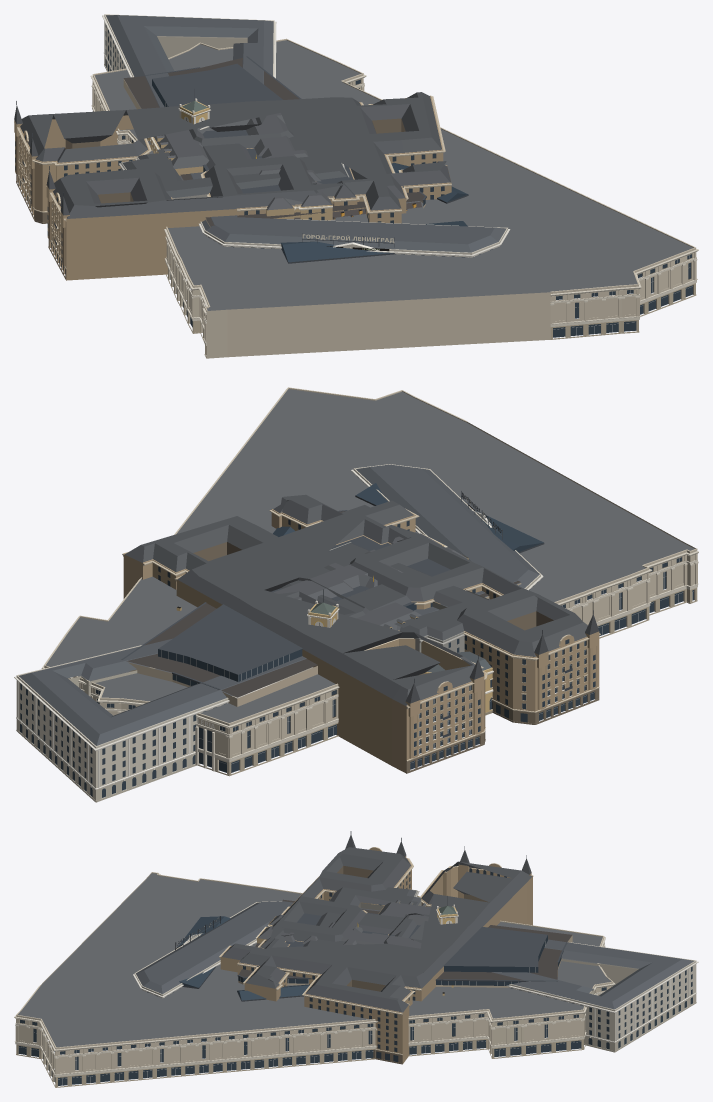
The model's file is ligovsky.glb.
The picture shows the model from 3 angles, top to bottom: view 1: azimuth 30°, elevation 25°; view 2: azimuth 150°, elevation 25°; view 3: azimuth 270°, elevation 25°; orthographic projection. The views are drawn at different scales.
Visible parts, largest first — view 1: hero__8522850_mesh, hero__1303159_mesh, hero__1598177_mesh, hero__1784115_mesh, hero__19186354_mesh, hero__953406_mesh, hero__2404499_mesh; view 2: hero__8522850_mesh, hero__1303159_mesh, hero__1598177_mesh, hero__1784115_mesh, hero__953406_mesh, hero__19186354_mesh, hero__2404499_mesh; view 3: hero__8522850_mesh, hero__1303159_mesh, hero__1598177_mesh, hero__1784115_mesh, hero__953406_mesh, hero__19186354_mesh, hero__2404499_mesh.
Boxes of the visible parts, bbox=[...] form: hero__8522850_mesh: bbox=[90, 38, 698, 358]; hero__1303159_mesh: bbox=[14, 92, 451, 280]; hero__1598177_mesh: bbox=[102, 14, 510, 257]; hero__1784115_mesh: bbox=[123, 56, 426, 227]; hero__19186354_mesh: bbox=[147, 113, 332, 220]; hero__953406_mesh: bbox=[119, 133, 349, 198]; hero__2404499_mesh: bbox=[178, 89, 210, 129]; hero__8522850_mesh: bbox=[41, 387, 698, 776]; hero__1303159_mesh: bbox=[122, 494, 600, 773]; hero__1598177_mesh: bbox=[14, 464, 543, 802]; hero__1784115_mesh: bbox=[121, 510, 521, 748]; hero__953406_mesh: bbox=[280, 542, 489, 652]; hero__19186354_mesh: bbox=[273, 533, 468, 630]; hero__2404499_mesh: bbox=[176, 589, 493, 719]; hero__8522850_mesh: bbox=[14, 872, 615, 1087]; hero__1303159_mesh: bbox=[219, 831, 533, 1064]; hero__1598177_mesh: bbox=[133, 901, 698, 1052]; hero__1784115_mesh: bbox=[237, 899, 572, 1025]; hero__953406_mesh: bbox=[303, 887, 421, 946]; hero__19186354_mesh: bbox=[255, 900, 430, 948]; hero__2404499_mesh: bbox=[417, 896, 466, 1036].
Size of the model in its own units: 205 by 42.5 by 316.
